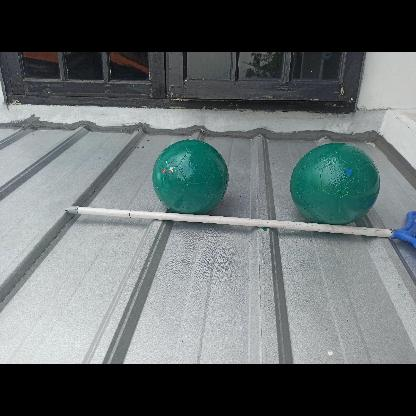green_ball: (292, 140, 378, 226), (152, 137, 226, 211)
